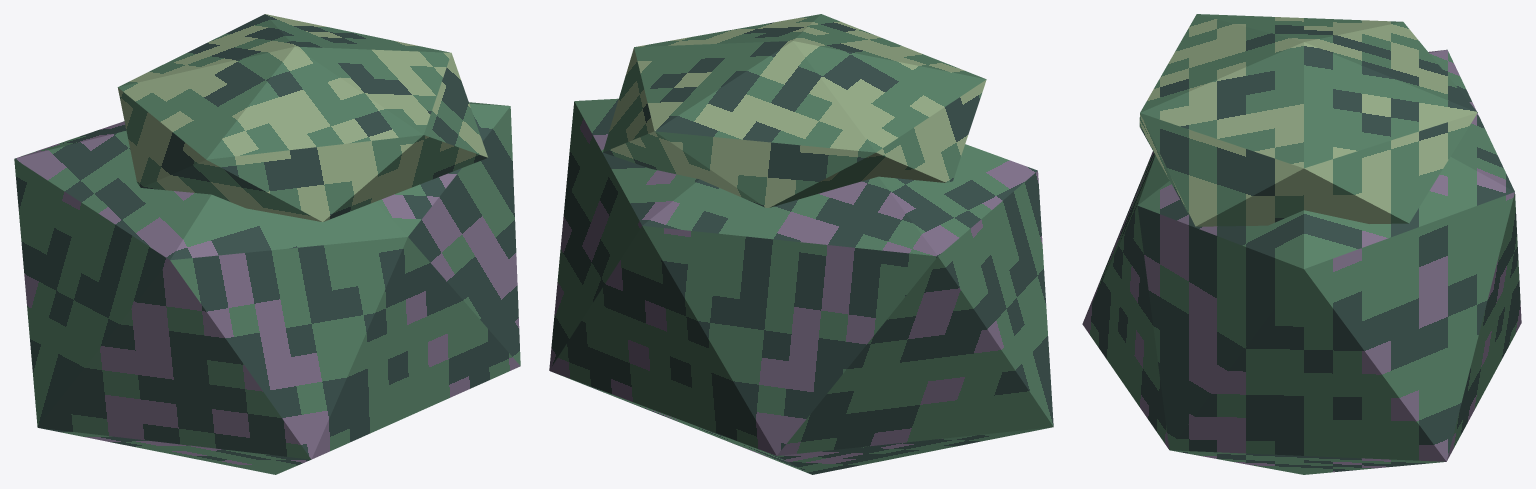
File: r03_rocha_musgo_2.glb
3 views of the same model, side by side, from view 1: azimuth 30°, elevation 25°; view 2: azimuth 150°, elevation 25°; view 3: azimuth 270°, elevation 25° (orthographic). The views are drawn at different scales.
Visible parts, largest first — view 1: r03_rocha_musgo_2; view 2: r03_rocha_musgo_2; view 3: r03_rocha_musgo_2.
Boxes of the visible parts, x1,y1,x2,y2 form: r03_rocha_musgo_2: (14,14,520,474); r03_rocha_musgo_2: (549,14,1053,474); r03_rocha_musgo_2: (1082,14,1521,474).
Bounding box in the file's own units: 1.24 × 1.06 × 0.9512.
Materials: 2 (2 with a texture image).
